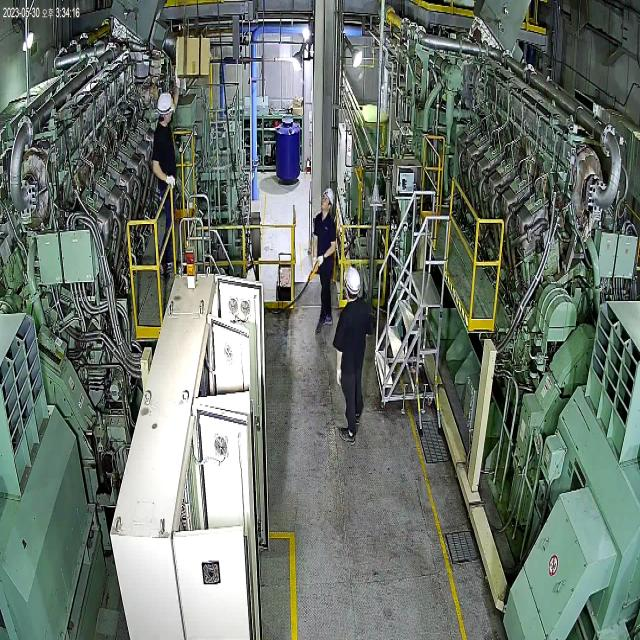Water Tank: (272, 110, 302, 190)
worker: (328, 256, 375, 450), (145, 82, 184, 276), (311, 182, 338, 346)
